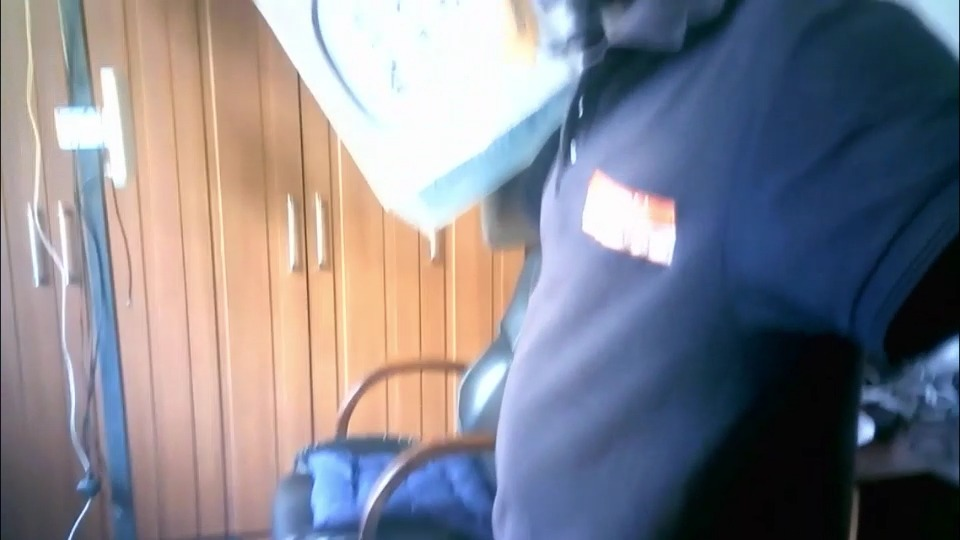wheat_flour_blue_label: (251, 0, 577, 210)
